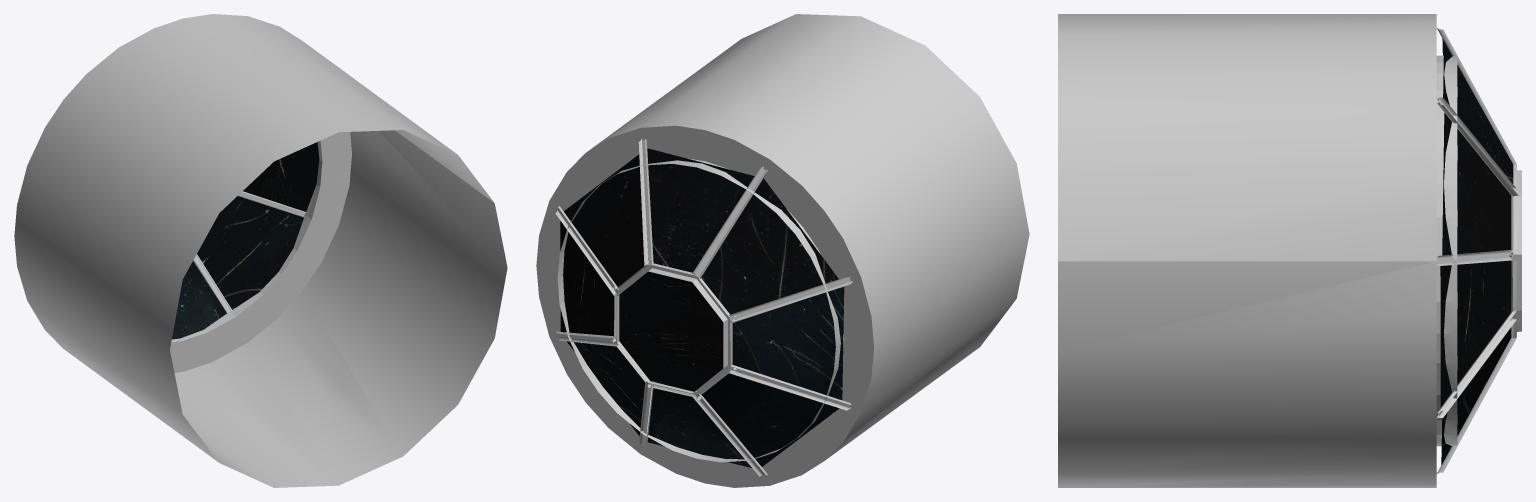
The model's file is tie_cockpit.fbx.
The picture shows the model from 3 angles, left to right: view 1: azimuth 30°, elevation 25°; view 2: azimuth 150°, elevation 25°; view 3: azimuth 270°, elevation 25°; orthographic projection. The views are drawn at different scales.
Visible parts, largest first — view 1: TIE_Advanced, TIE_Advanced.001; view 2: TIE_Advanced, TIE_Advanced.001; view 3: TIE_Advanced, TIE_Advanced.001.
Boxes of the visible parts, bbox=[...] form: TIE_Advanced: bbox=[14, 14, 507, 487]; TIE_Advanced.001: bbox=[172, 142, 319, 339]; TIE_Advanced: bbox=[536, 14, 1029, 487]; TIE_Advanced.001: bbox=[560, 148, 844, 467]; TIE_Advanced: bbox=[1058, 14, 1521, 487]; TIE_Advanced.001: bbox=[1440, 39, 1513, 464].
Size of the model in its own units: 161 by 161 by 157.
